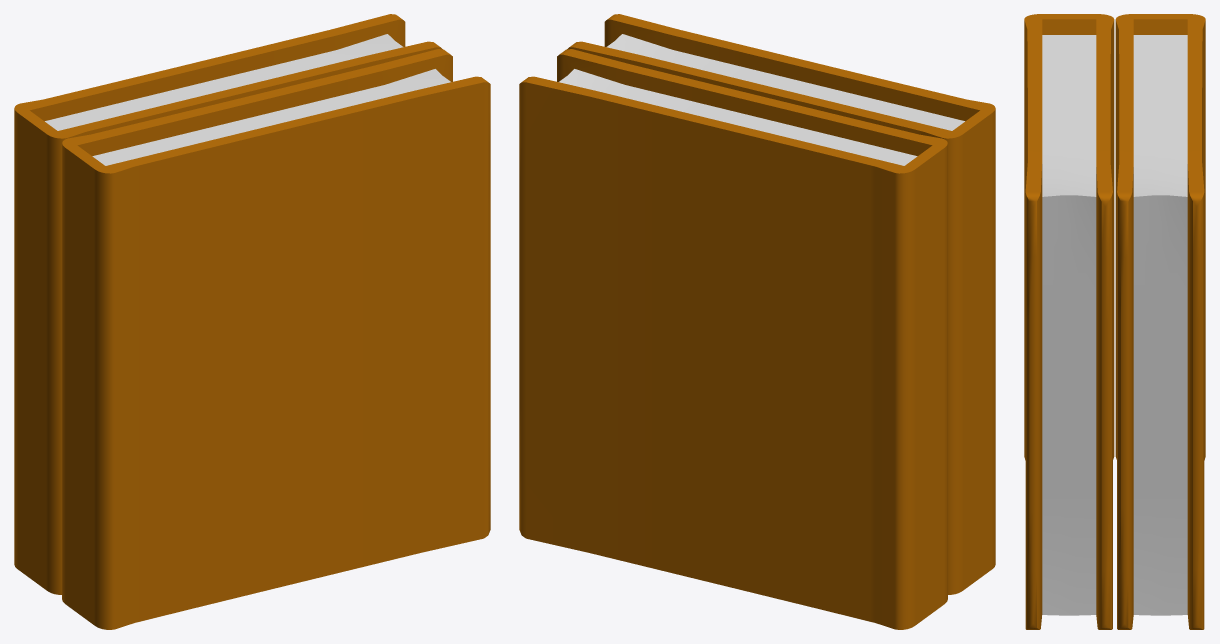
File: book_orange.fbx
3 views of the same model, side by side, from view 1: azimuth 30°, elevation 25°; view 2: azimuth 150°, elevation 25°; view 3: azimuth 270°, elevation 25° (orthographic). The views are drawn at different scales.
Parts seen in each view (by area): view 1: pCube1, pCube2; view 2: pCube2, pCube1; view 3: pCube2, pCube1.
Part boxes in pixels (x1,y1,x2,y2): pCube1: (62,49,490,629); pCube2: (14,14,442,594); pCube2: (519,49,947,629); pCube1: (567,14,995,594); pCube2: (1115,14,1205,629); pCube1: (1024,14,1114,629).
Bounding box in the file's own units: 23.21 × 25.88 × 9.75.
